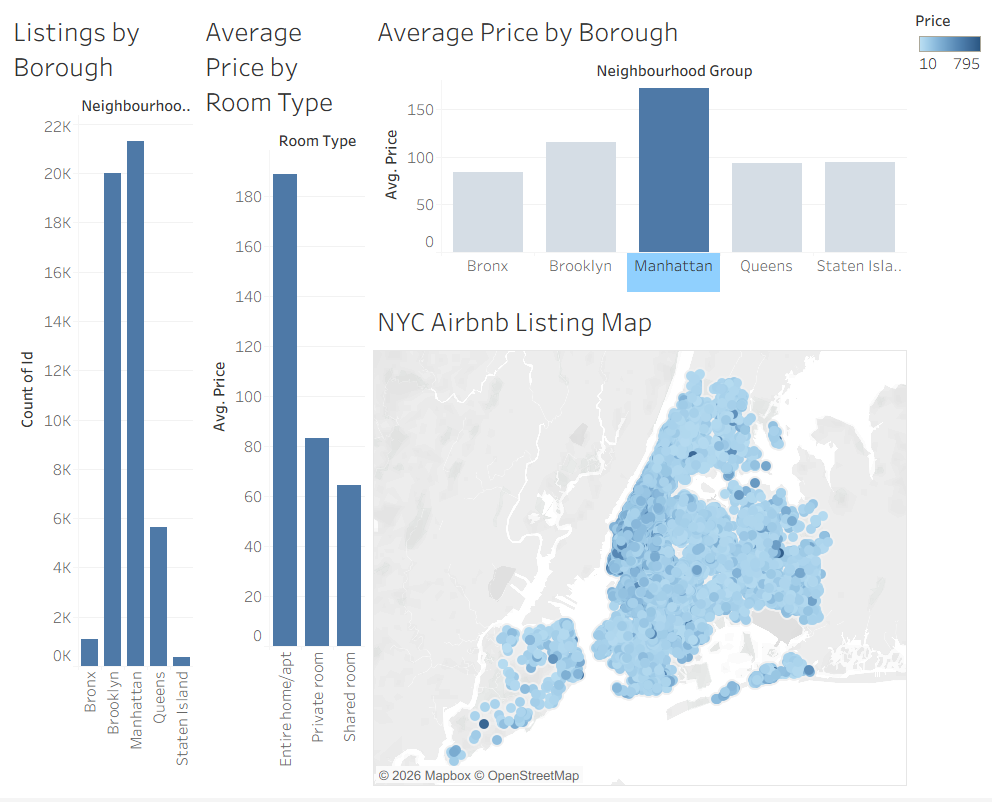

The page's visual inventory and layout, read from the dashboard file:
{"tool":"tableau","page":{"name":"Dashboard 1","canvas":[1000,800],"ordinal":0},"visuals":[{"type":"worksheet","title":"Sheet 2","mark":"Automatic","rows":["id"],"cols":["neighbourhood_group"],"box":[8,8,192.2,784]},{"type":"worksheet","title":"Sheet 3","mark":"Automatic","rows":["price"],"cols":["room_type"],"box":[200.2,8,172.3,784]},{"type":"worksheet","title":"Sheet 1","mark":"Automatic","rows":["price"],"cols":["neighbourhood_group"],"box":[372.5,8,541.5,290]},{"type":"legend","title":"Sheet 4","param":"[federated.035gxwr04bjccw1bam9pn174oajl].[sum:price:qk]","box":[914,8,78,73]},{"type":"worksheet","title":"Sheet 4","mark":"Automatic","rows":["latitude"],"cols":["longitude"],"box":[372.5,298,541.5,494]}]}

Visuals, with their boxes in screenshot pixels (x1, y1, x2, y2), scaled from the page's 1000x800 canvas onto the 992x802 screenshot:
"Sheet 2" worksheet: (8, 8, 199, 794)
"Sheet 3" worksheet: (199, 8, 370, 794)
"Sheet 1" worksheet: (370, 8, 907, 299)
"Sheet 4" legend: (907, 8, 984, 81)
"Sheet 4" worksheet: (370, 299, 907, 794)
